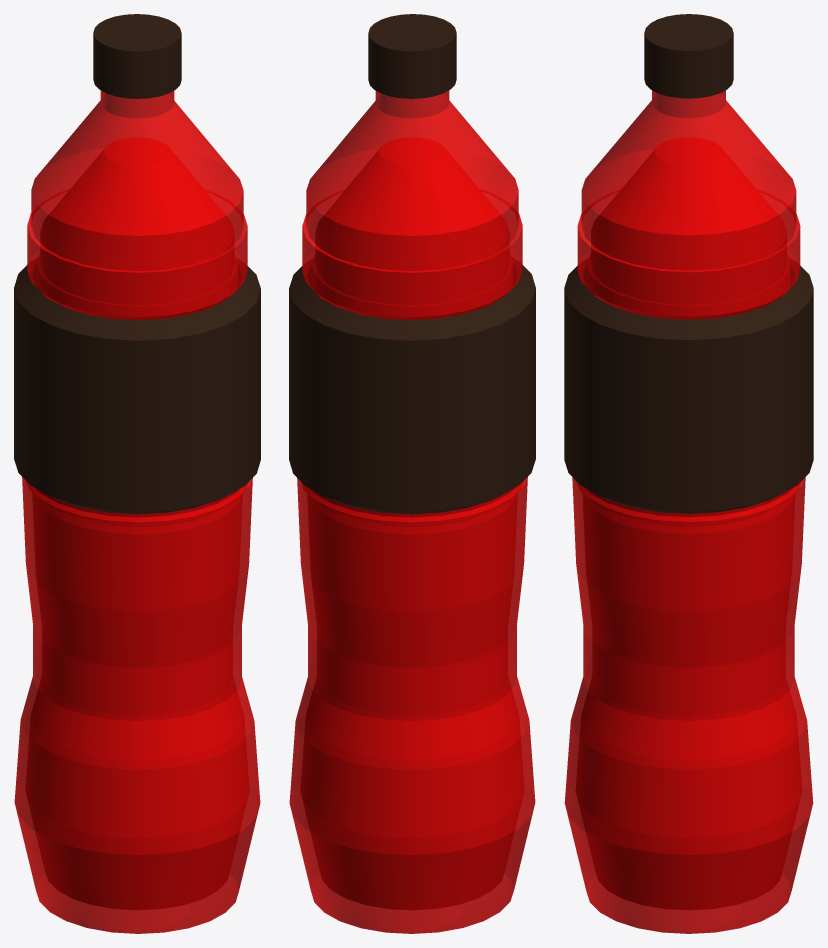
The model's file is Energy Drink.fbx.
3 renders of one model, left to right at view 1: azimuth 30°, elevation 25°; view 2: azimuth 150°, elevation 25°; view 3: azimuth 270°, elevation 25°, orthographic.
Visible parts, largest first — view 1: Group1, Group2; view 2: Group1, Group2; view 3: Group1, Group2.
Boxes of the visible parts, x1,y1,x2,y2 form: Group1: (14,14,260,933); Group2: (25,137,249,909); Group1: (289,14,535,933); Group2: (300,137,524,909); Group1: (564,14,813,933); Group2: (576,137,801,909).
Size of the model in its own units: 1.95 by 7.65 by 1.97.
